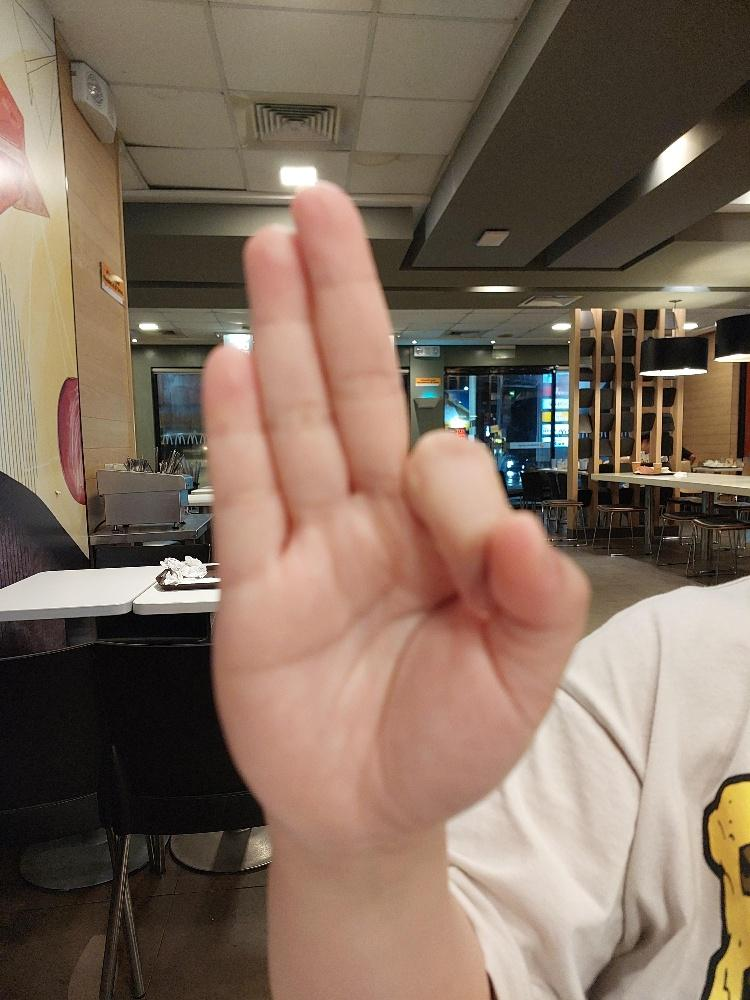f: (200, 175, 590, 833)
